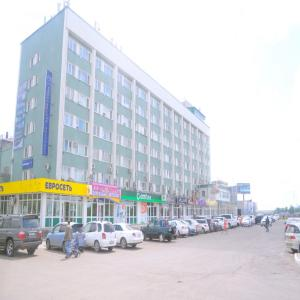Vehicle-registration-plate: (28, 231, 37, 238), (286, 235, 291, 241), (110, 242, 114, 246), (139, 235, 143, 239), (80, 236, 83, 240), (170, 230, 172, 232), (186, 229, 188, 231)
